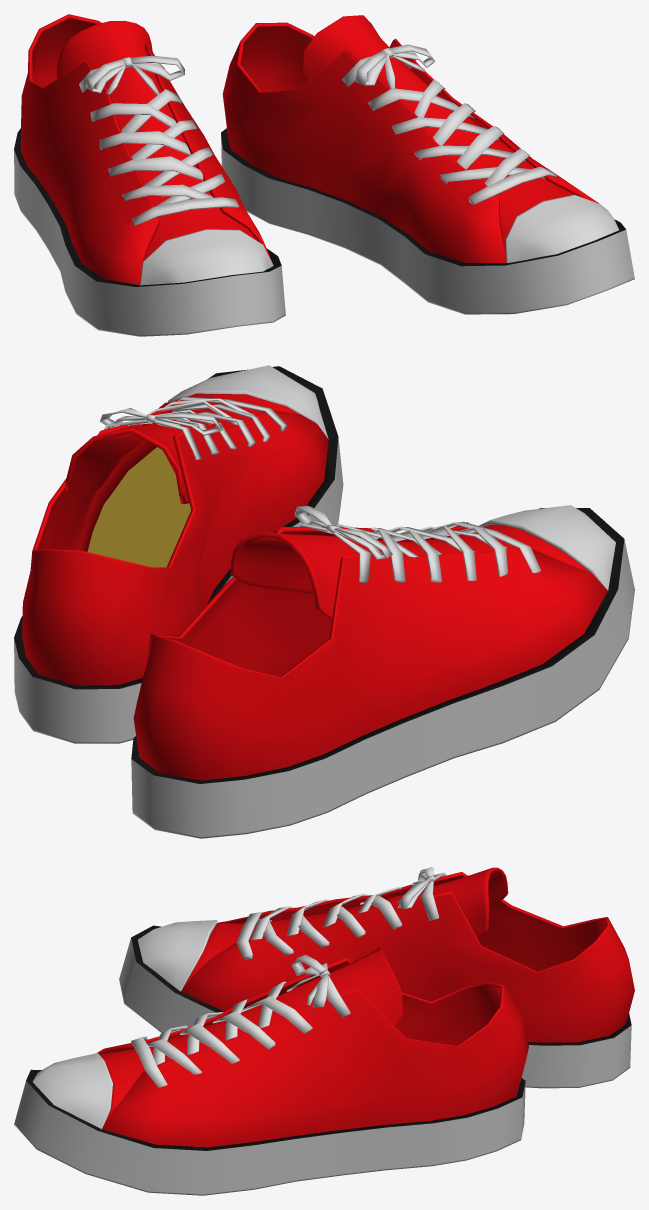
File: sneakers.obj
3 renders of one model, top to bottom at view 1: azimuth 30°, elevation 25°; view 2: azimuth 150°, elevation 25°; view 3: azimuth 270°, elevation 25°, orthographic. The views are drawn at different scales.
Parts seen in each view (by area): view 1: Plane.002, Plane.009_Plane.011, Plane.005_Plane.006, Plane.006_Plane.007, Plane.010_Plane.012, Plane.008_Plane.009, Plane.001, Plane.003_Plane.004, Plane.011_Plane.013, Plane, Plane.007_Plane.008, Plane.004_Plane.005; view 2: Plane.009_Plane.011, Plane.002, Plane.006_Plane.007, Plane.010_Plane.012, Plane.011_Plane.013, Plane.005_Plane.006, plant_Plane.003, Plane, Plane.001, Plane.008_Plane.009, Plane.003_Plane.004, Plane.007_Plane.008 (+1 smaller); view 3: Plane.002, Plane.009_Plane.011, Plane.005_Plane.006, Plane.006_Plane.007, Plane.001, Plane, Plane.003_Plane.004, Plane.011_Plane.013, Plane.010_Plane.012, Plane.008_Plane.009, Plane.004_Plane.005, Plane.007_Plane.008.
Boxes of the visible parts, x1,y1,x2,y2 form: Plane.002: (222, 22, 598, 263); Plane.009_Plane.011: (20, 14, 272, 285); Plane.005_Plane.006: (221, 135, 634, 314); Plane.006_Plane.007: (14, 150, 285, 336); Plane.010_Plane.012: (56, 20, 257, 278); Plane.008_Plane.009: (79, 57, 239, 225); Plane.001: (302, 15, 573, 262); Plane.003_Plane.004: (342, 48, 556, 204); Plane.011_Plane.013: (14, 128, 281, 286); Plane: (221, 128, 625, 266); Plane.007_Plane.008: (85, 55, 184, 93); Plane.004_Plane.005: (355, 44, 435, 85); Plane.009_Plane.011: (133, 522, 607, 780); Plane.002: (22, 399, 328, 685); Plane.006_Plane.007: (131, 539, 634, 838); Plane.010_Plane.012: (230, 524, 589, 619); Plane.011_Plane.013: (131, 505, 624, 783); Plane.005_Plane.006: (14, 437, 343, 743); plant_Plane.003: (87, 447, 190, 567); Plane: (14, 365, 338, 689); Plane.001: (65, 393, 298, 504); Plane.008_Plane.009: (297, 521, 540, 583); Plane.003_Plane.004: (104, 396, 286, 459); Plane.007_Plane.008: (294, 505, 392, 559); Plane.002: (97, 957, 528, 1147); Plane.009_Plane.011: (181, 872, 634, 1042); Plane.005_Plane.006: (14, 1081, 525, 1195); Plane.006_Plane.007: (119, 938, 631, 1088); Plane.001: (100, 947, 402, 1126); Plane: (26, 1053, 525, 1150); Plane.003_Plane.004: (131, 963, 350, 1087); Plane.011_Plane.013: (131, 920, 631, 1045); Plane.010_Plane.012: (183, 867, 508, 988); Plane.008_Plane.009: (236, 872, 446, 959); Plane.004_Plane.005: (291, 954, 328, 1007); Plane.007_Plane.008: (397, 867, 433, 908).
Bounding box in the file's own units: 2.83 × 1.18 × 3.56.
